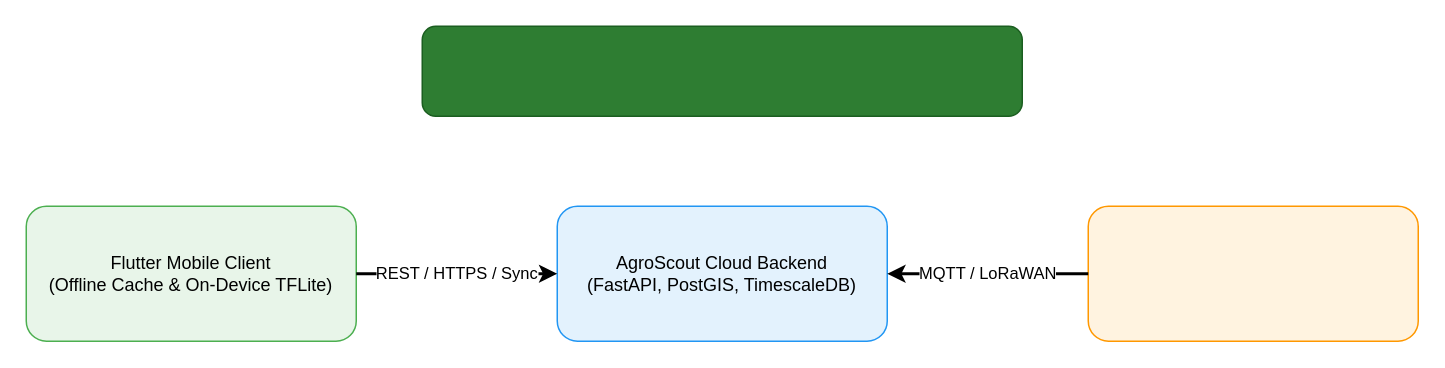
The diagram is 1445 pixels wide and 368 high, and some of its shapes have lost their labels. The shapes that lost their labels are listed below. From the top down, each one's centre as x and y in pixels, then its label:
At point 721,70: "Camera-AI-Backend-Flutter Pipeline".
At point 1252,273: "Edge IoT Rover & Sensors (ESP32, CM4, Multispectral Cam)".
